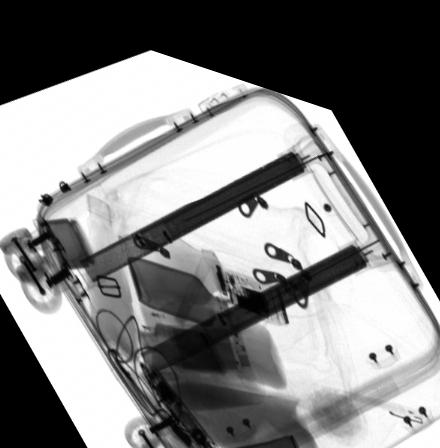Powerbank: (166, 313, 253, 359)
